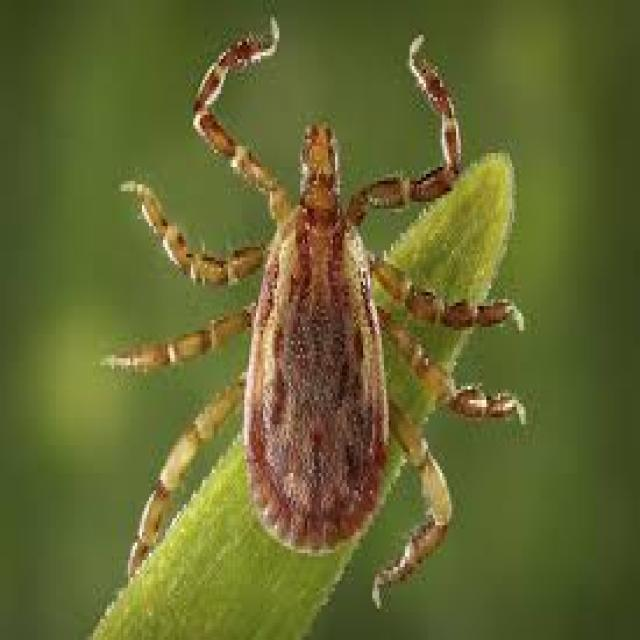Mites: (76, 10, 536, 616)
